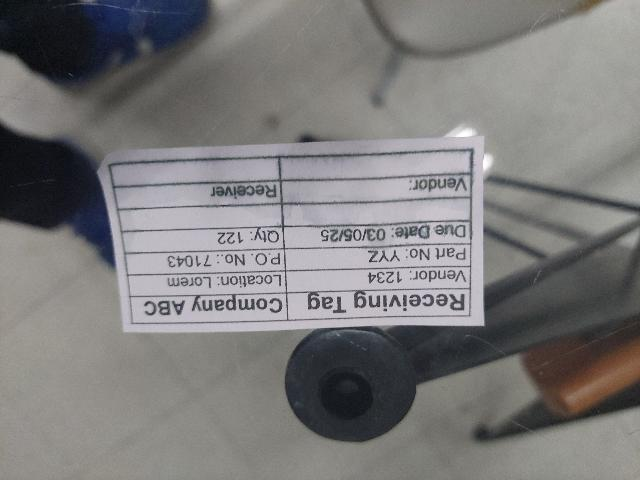PO no: (123, 247, 287, 274)
part no: (284, 242, 471, 270)
qty: (121, 226, 285, 254)
tags: (97, 135, 489, 336)
